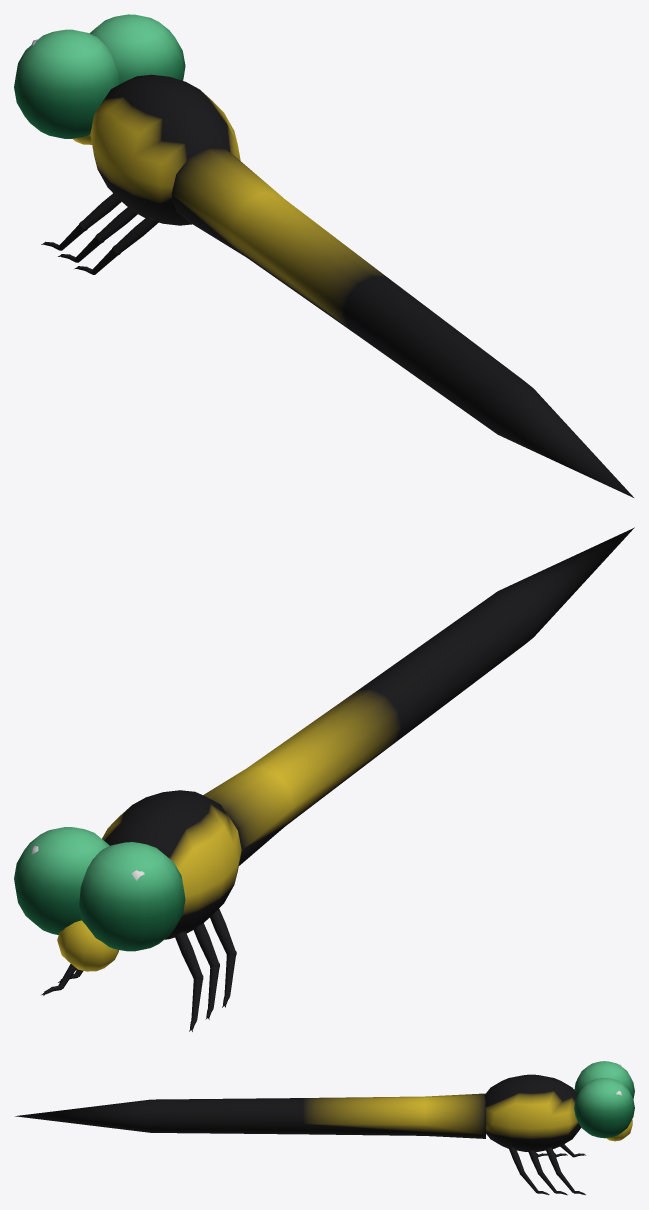
File: Oniyanma_Body.fbx
The picture shows the model from 3 angles, top to bottom: view 1: azimuth 30°, elevation 25°; view 2: azimuth 150°, elevation 25°; view 3: azimuth 270°, elevation 25°; orthographic projection. The views are drawn at different scales.
Visible parts, largest first — view 1: Oniyanma_Body; view 2: Oniyanma_Body; view 3: Oniyanma_Body.
Boxes of the visible parts, x1=… form: Oniyanma_Body: x1=14, y1=14, x2=633, y2=497; Oniyanma_Body: x1=14, y1=527, x2=634, y2=1031; Oniyanma_Body: x1=15, y1=1061, x2=634, y2=1195.
Bounding box in the file's own units: 0.66 × 0.75 × 4.08.
